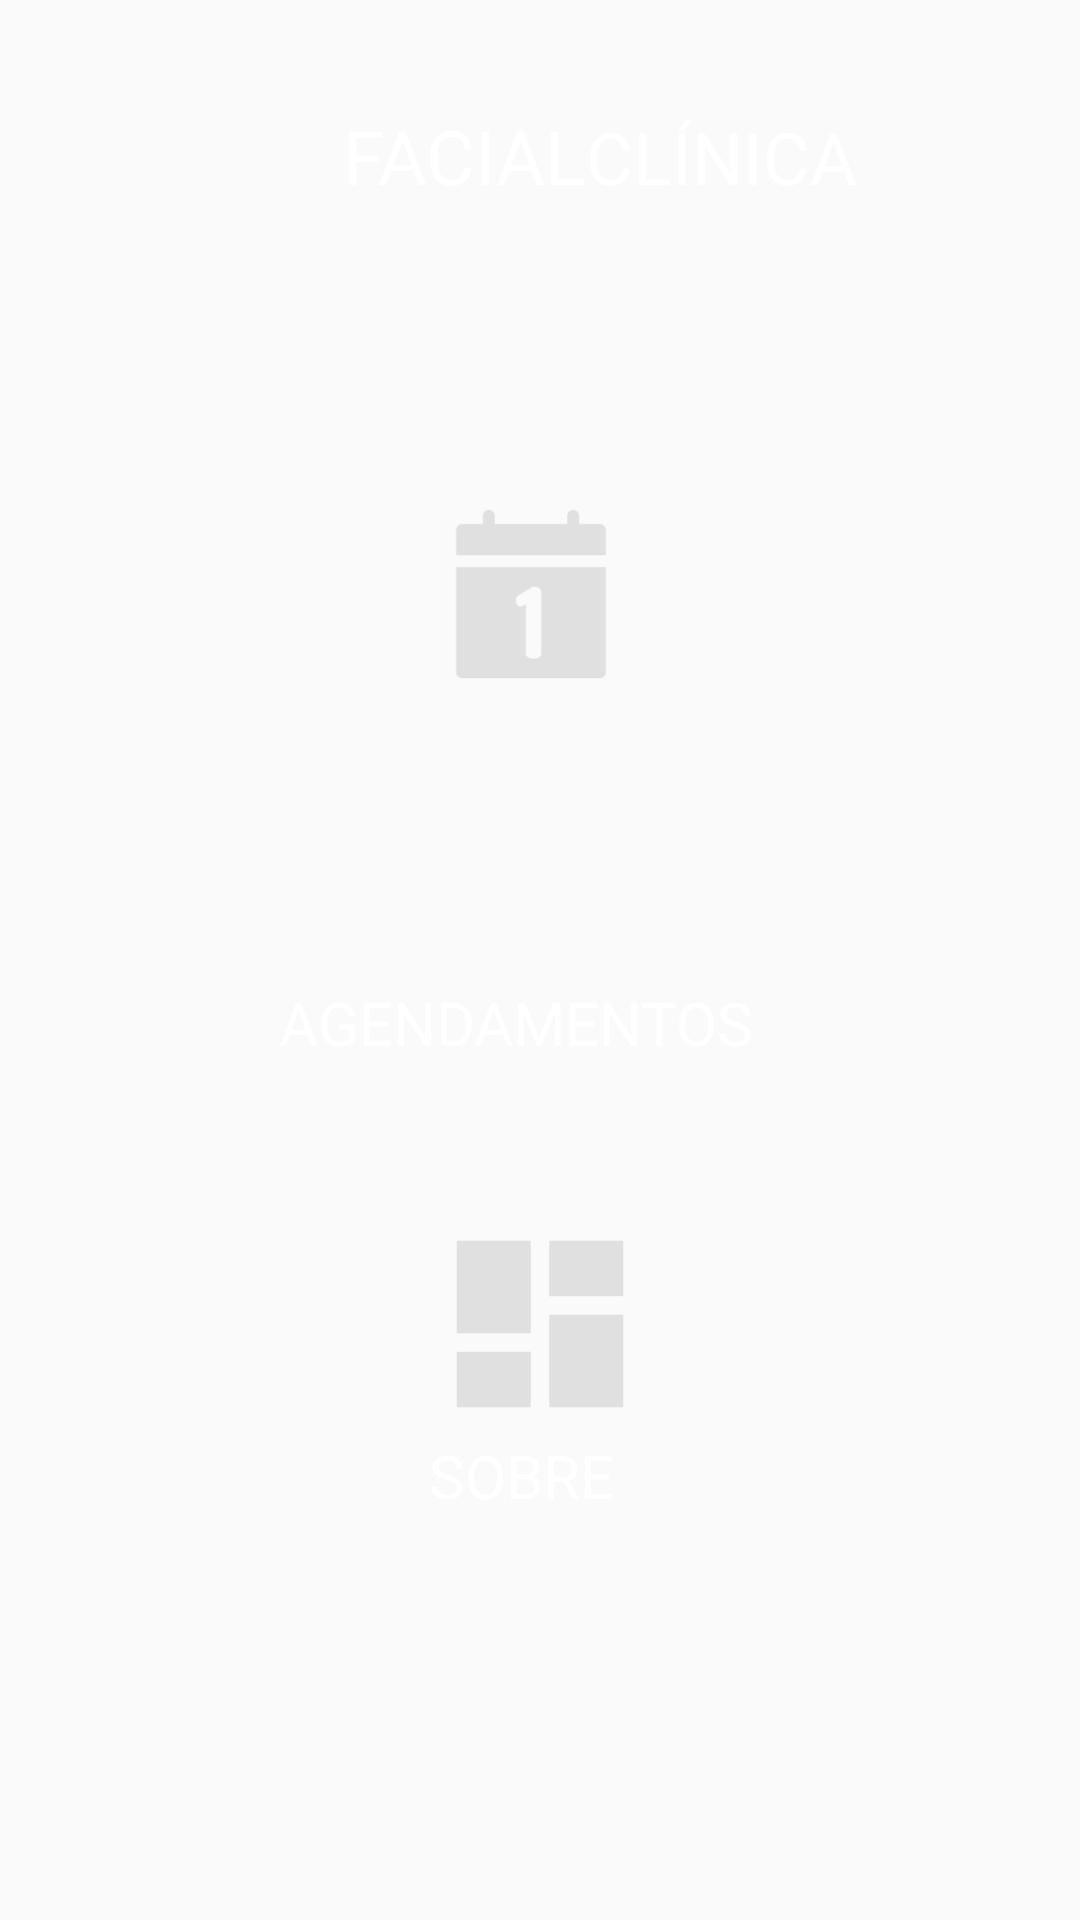

Screen size 1080w x 1920h. Icon name, then its box in pixels as box(x1, y1, x2, y2):
dashboard: box(457, 1241, 623, 1407)
numero: box(457, 510, 605, 678)
